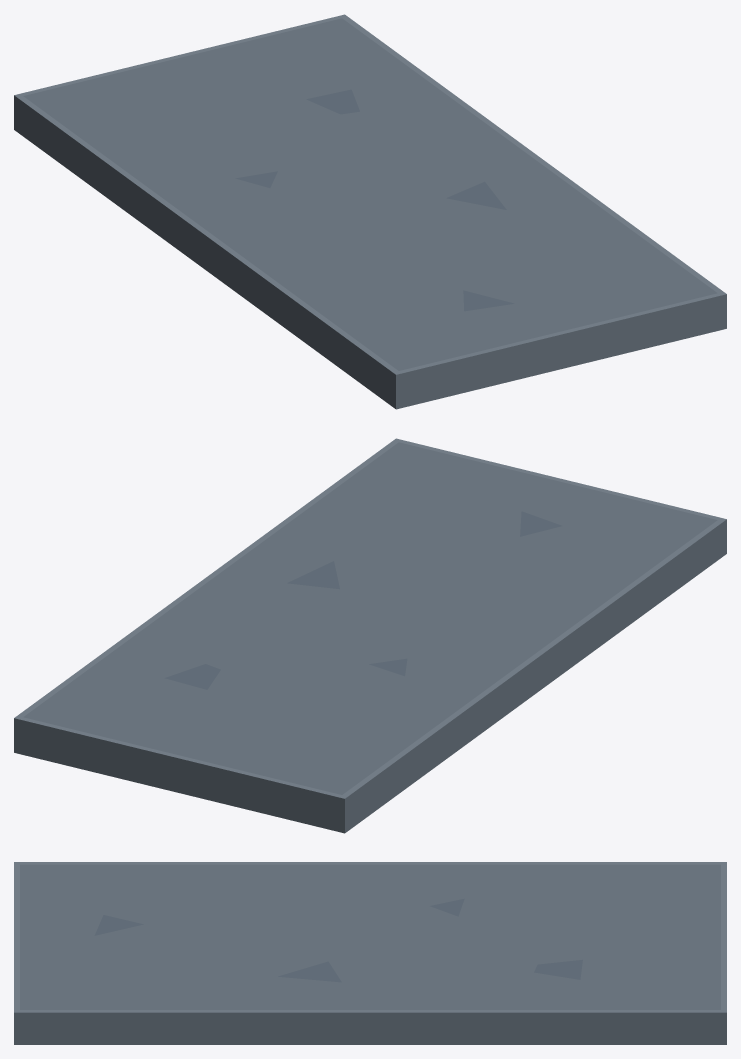
The model's file is ConcrateSlabs_D_3_2.fbx.
3 renders of one model, top to bottom at view 1: azimuth 30°, elevation 25°; view 2: azimuth 150°, elevation 25°; view 3: azimuth 270°, elevation 25°, orthographic. The views are drawn at different scales.
Visible parts, largest first — view 1: ConcrateSlabs_D_3_2; view 2: ConcrateSlabs_D_3_2; view 3: ConcrateSlabs_D_3_2.
Part boxes in pixels (x1,y1,x2,y2): ConcrateSlabs_D_3_2: (14,14,726,409); ConcrateSlabs_D_3_2: (14,438,726,833); ConcrateSlabs_D_3_2: (14,862,726,1044).
Size of the model in its own units: 400 by 40 by 800.
